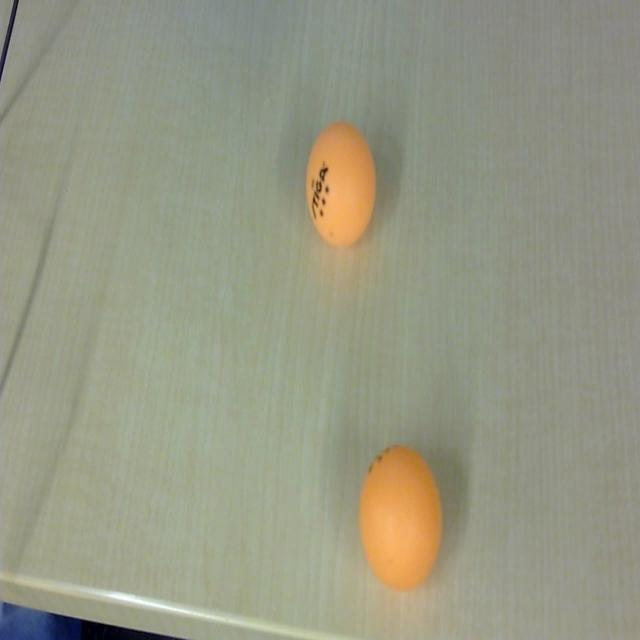ball: (358, 441, 443, 594), (304, 117, 378, 253)
